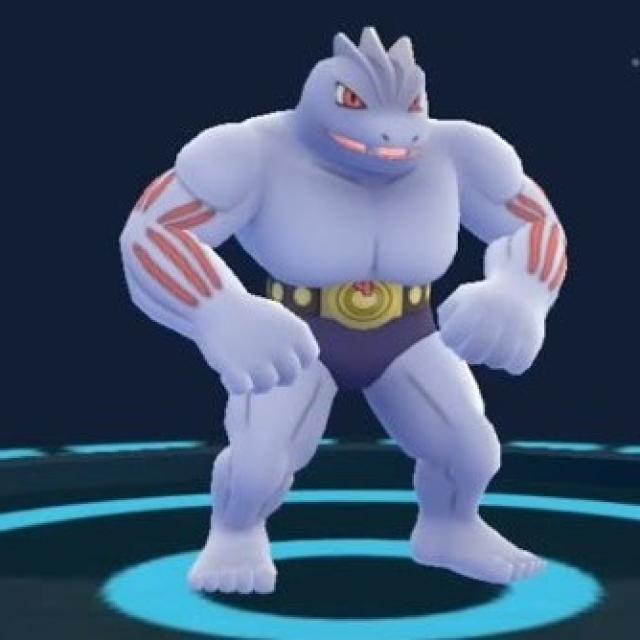Machoke: (120, 33, 567, 590)
